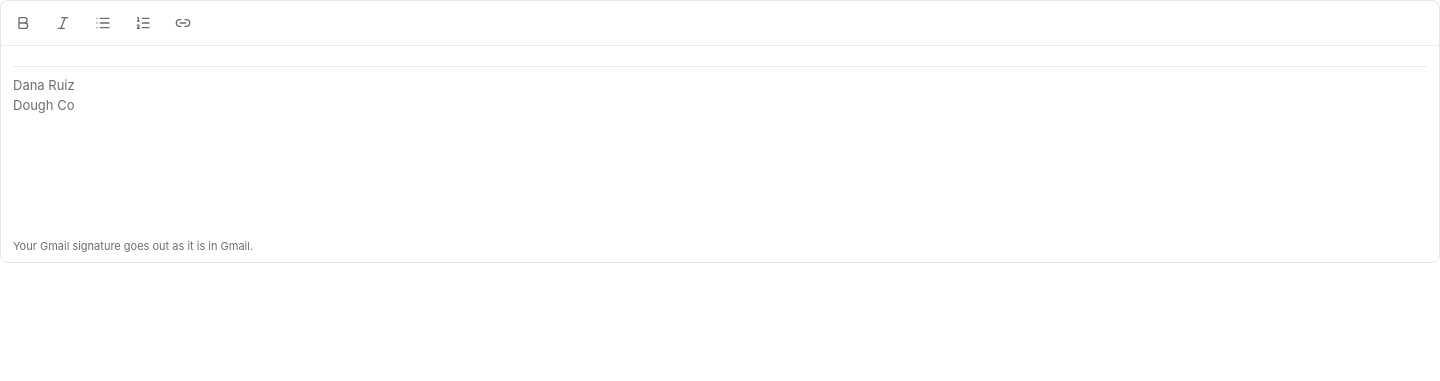
MailEditor › refuses a link that is not a web or email address, and writes one that is
This screenshot has width=1440, height=381.
Click the button named "Link". click: coordinates (183, 23)
box: top-left (165, 5), bottom-right (201, 41)
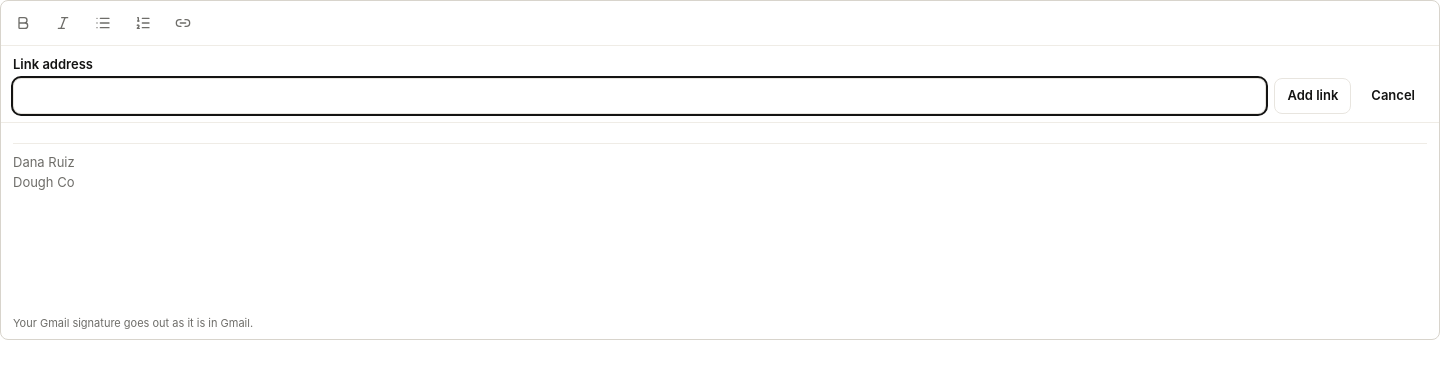
Type "javascript:alert(1)" into the field labelled "Link address". click: coordinates (640, 96)
box: top-left (13, 78), bottom-right (1266, 114)
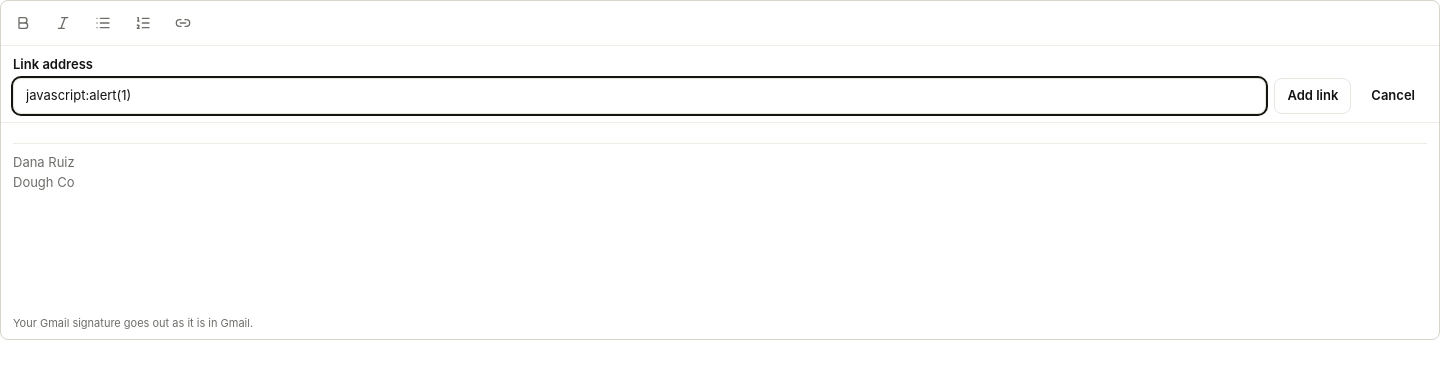
Click the button "Add link". click: coordinates (1313, 96)
box: top-left (1274, 78), bottom-right (1351, 114)
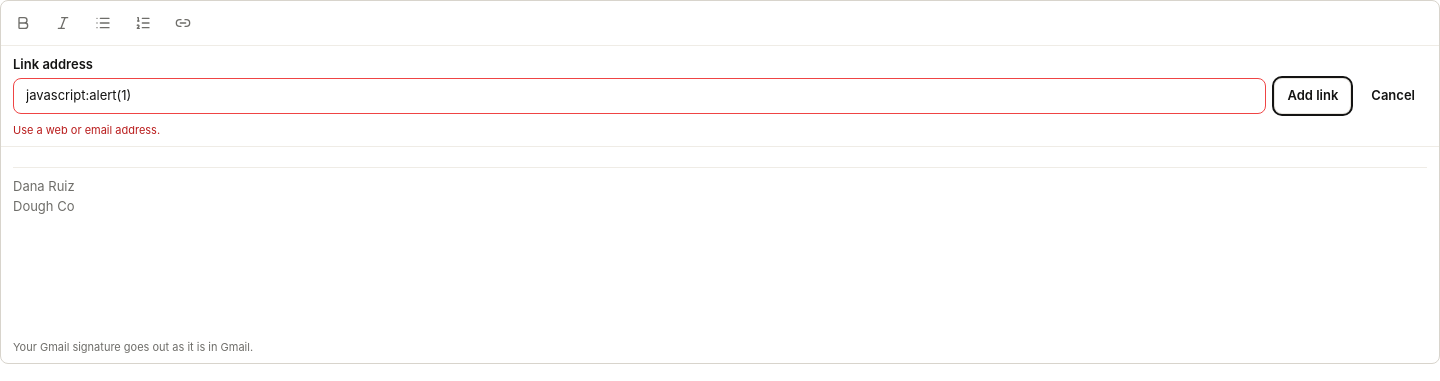
expect the message reads "Use a web or email address.": met, box top-left (13, 123), bottom-right (160, 137)
Replace the text in the field labelled "Link address" with "doughco.com". click: coordinates (640, 96)
box: top-left (13, 78), bottom-right (1266, 114)
Then press Enter
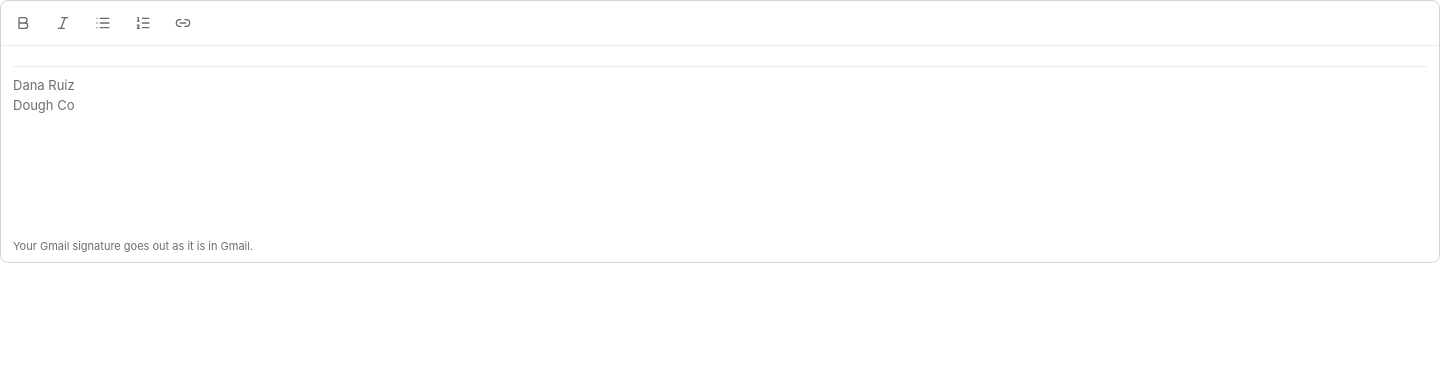
expect the text labelled "Link address" is gone: met
